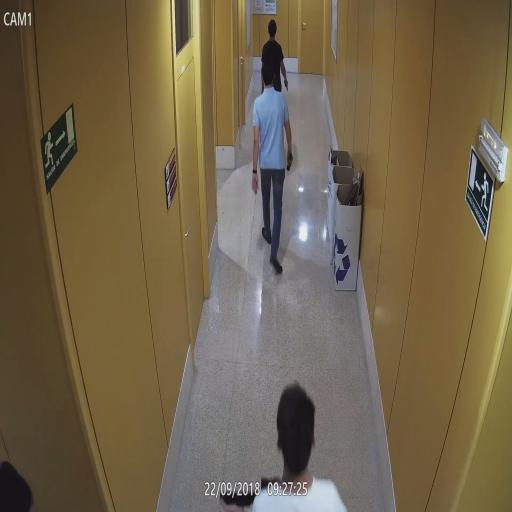Handgun: (282, 78, 290, 90)
